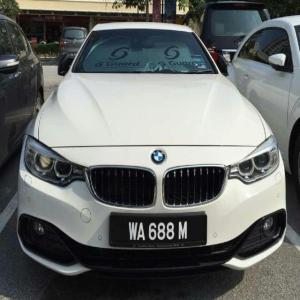Plate: (111, 216, 207, 246)
